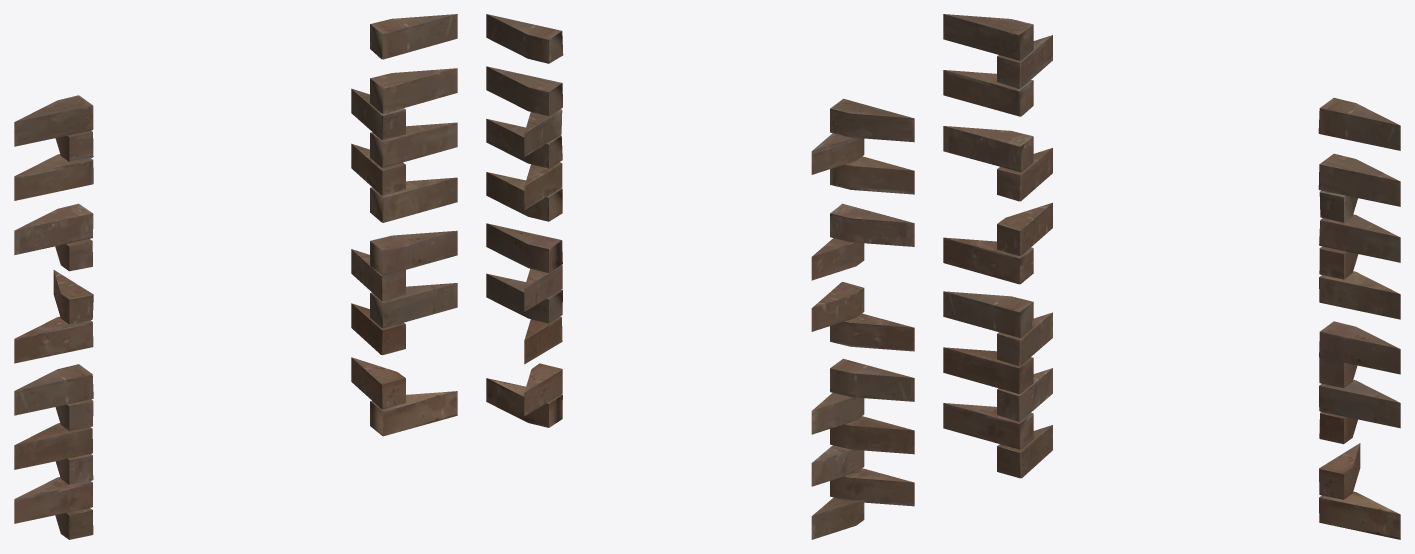
File: wh_window_brick_detail.glb
3 renders of one model, left to right at view 1: azimuth 30°, elevation 25°; view 2: azimuth 150°, elevation 25°; view 3: azimuth 330°, elevation 25°, orthographic. The views are drawn at different scales.
Visible parts, largest first — view 1: wh_window_brick_detail_LOD0; view 2: wh_window_brick_detail_LOD0; view 3: wh_window_brick_detail_LOD0.
Boxes of the visible parts, x1,y1,x2,y2 form: wh_window_brick_detail_LOD0: (14, 14, 457, 539); wh_window_brick_detail_LOD0: (486, 14, 914, 539); wh_window_brick_detail_LOD0: (943, 14, 1400, 539).
Bounding box in the file's own units: 1.79 × 1.66 × 0.2535.
1 material, 1 textured.
